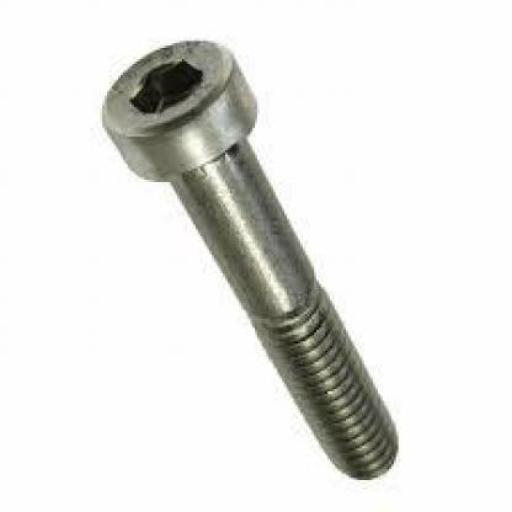bolt: (100, 38, 398, 481)
